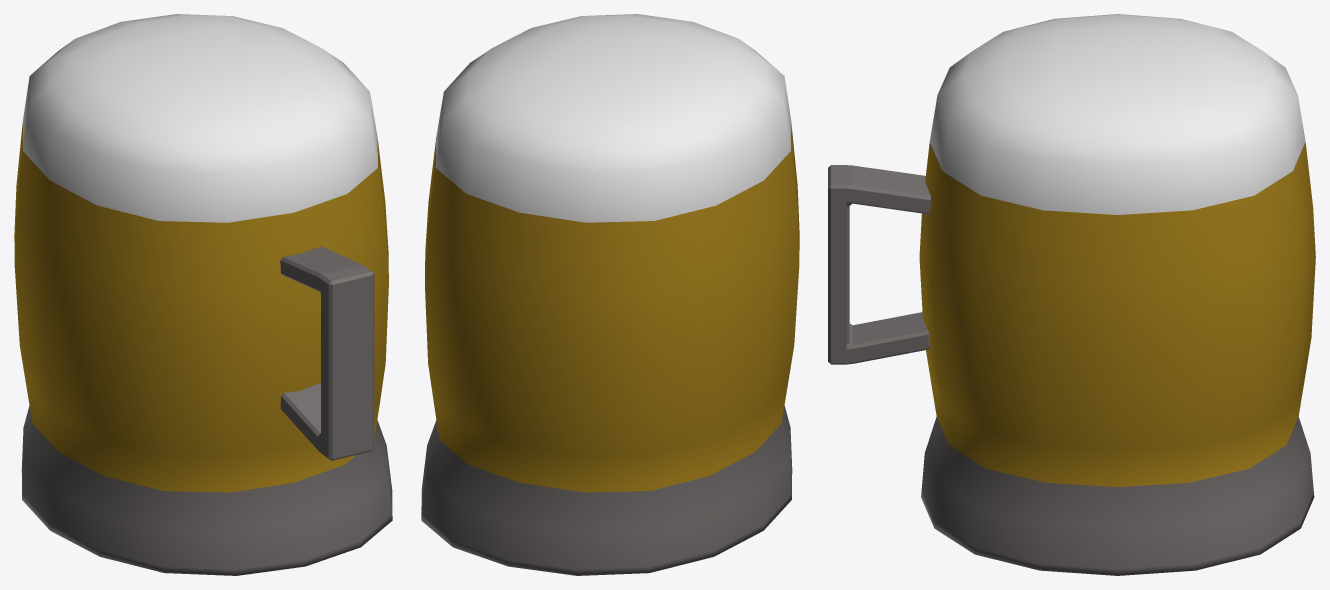
Rendered from piwna czapa.fbx.
3 views of the same model, side by side, from view 1: azimuth 30°, elevation 25°; view 2: azimuth 150°, elevation 25°; view 3: azimuth 270°, elevation 25° (orthographic).
Visible parts, largest first — view 1: piwko czapka; view 2: piwko czapka; view 3: piwko czapka.
Boxes of the visible parts, bbox=[...] form: piwko czapka: bbox=[14, 14, 392, 575]; piwko czapka: bbox=[421, 14, 799, 575]; piwko czapka: bbox=[828, 14, 1315, 575].
Bounding box in the file's own units: 0.5763 × 0.7638 × 0.759.
